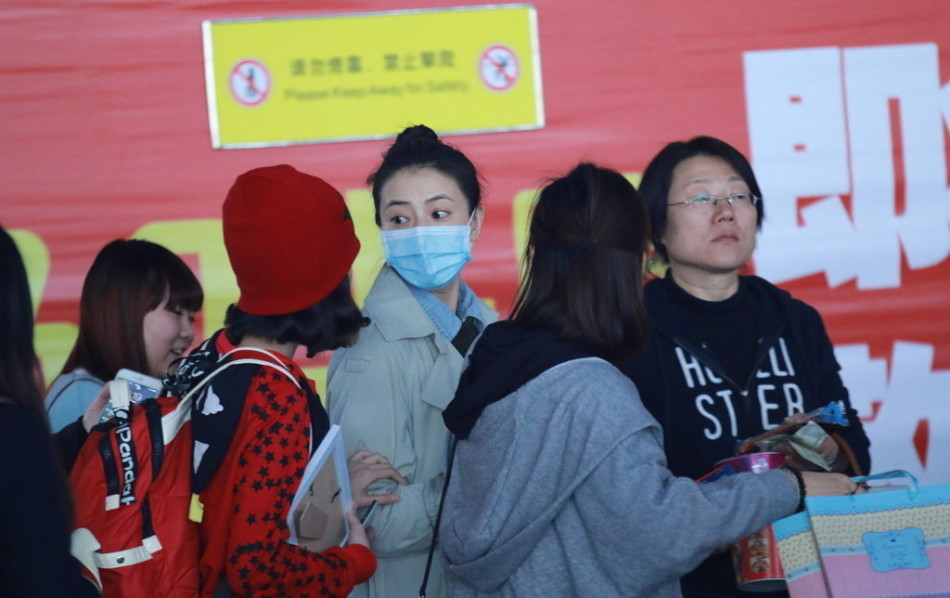face: (132, 278, 201, 376)
face_mask: (380, 175, 474, 289), (668, 158, 758, 268)
